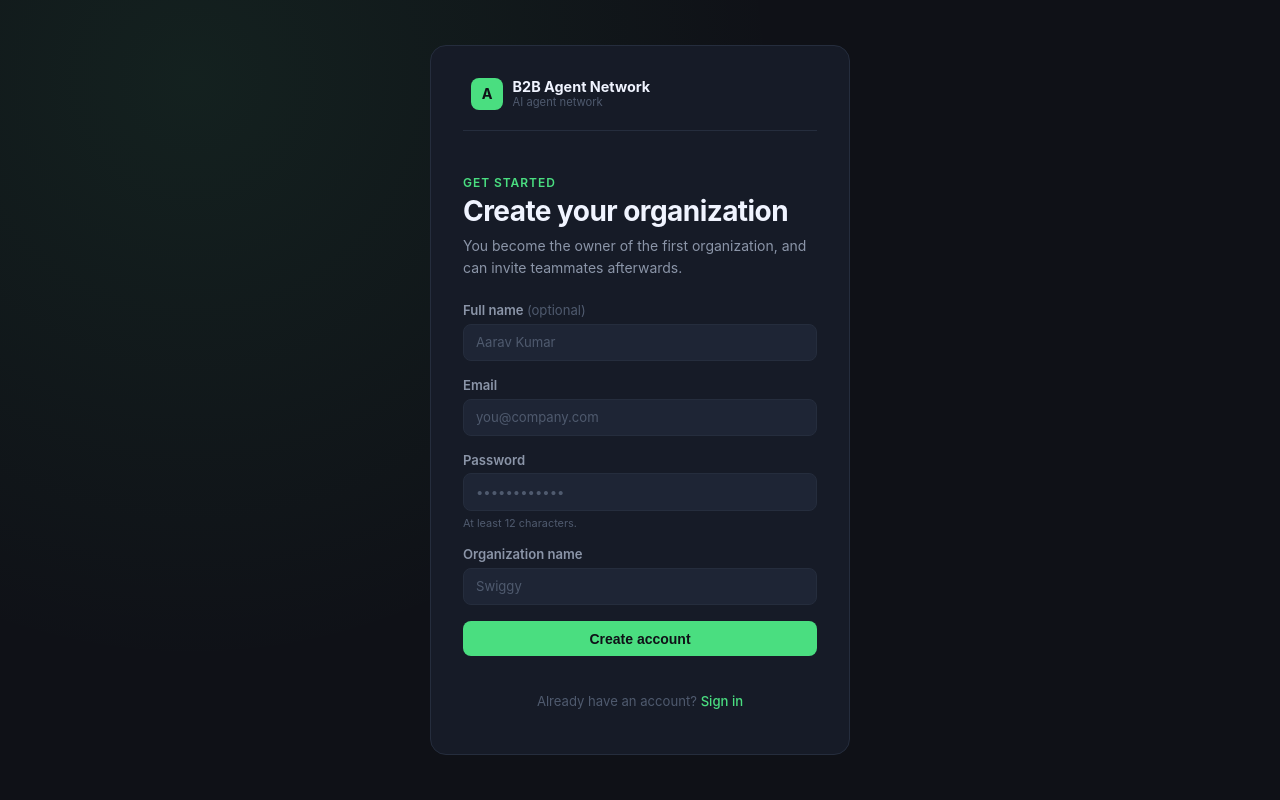
Scenario: authentication flow › registers a new owner and opens the workspace
Type "Ada Owner" into the field labelled "Full name (optional)".
click(640, 342); type("Ada Owner")  # box [463, 324, 817, 361]
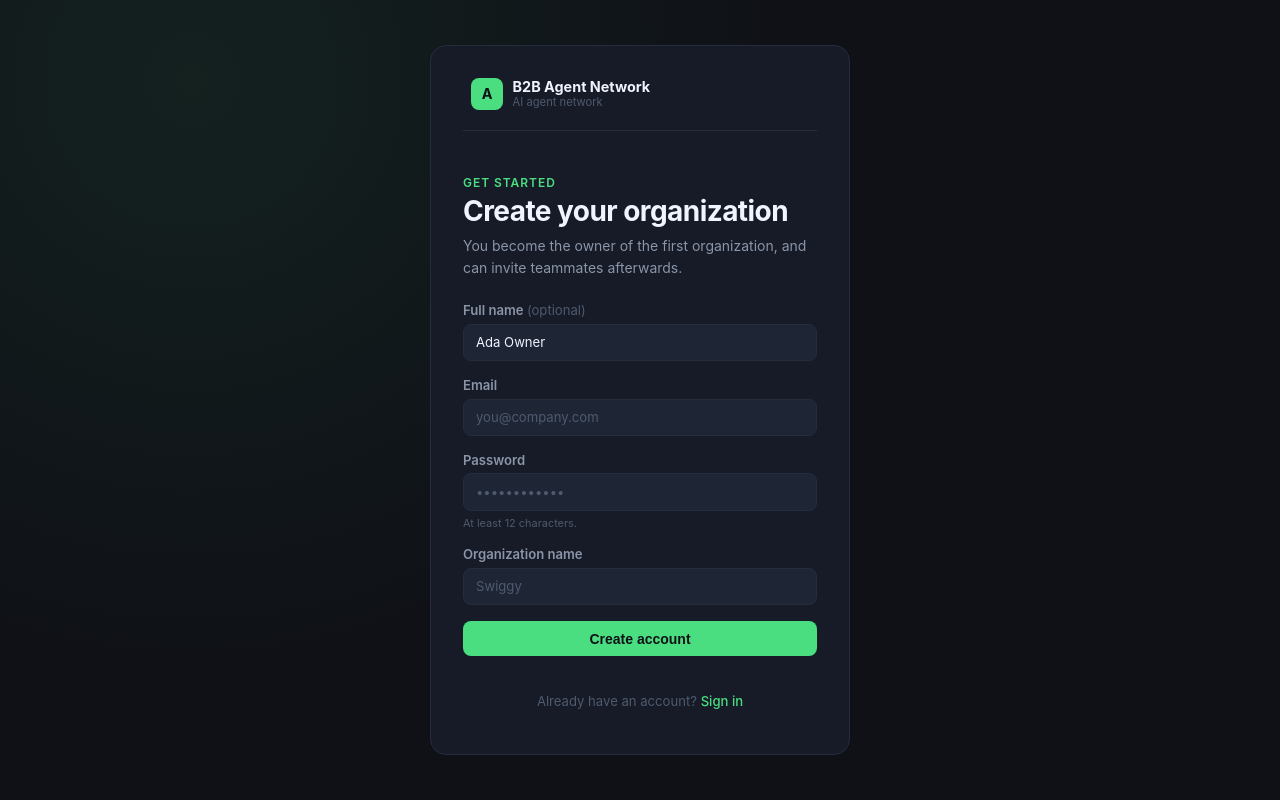
Type "owner@example.test" into the field labelled "Email".
click(640, 417); type("owner@example.test")  # box [463, 399, 817, 436]
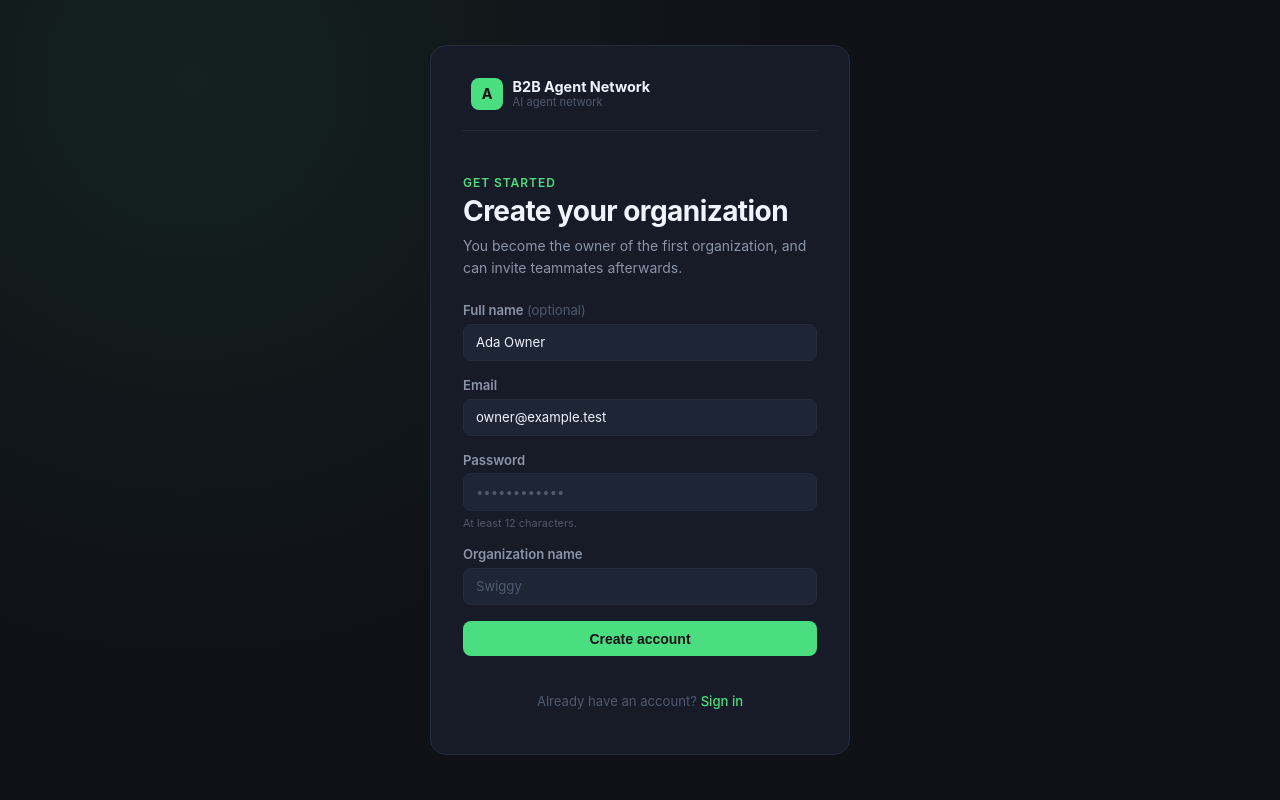
Type "correct horse battery staple" into the password field labelled "Password At least 12 characters.".
click(640, 492); type("correct horse battery staple")  # box [463, 473, 817, 511]
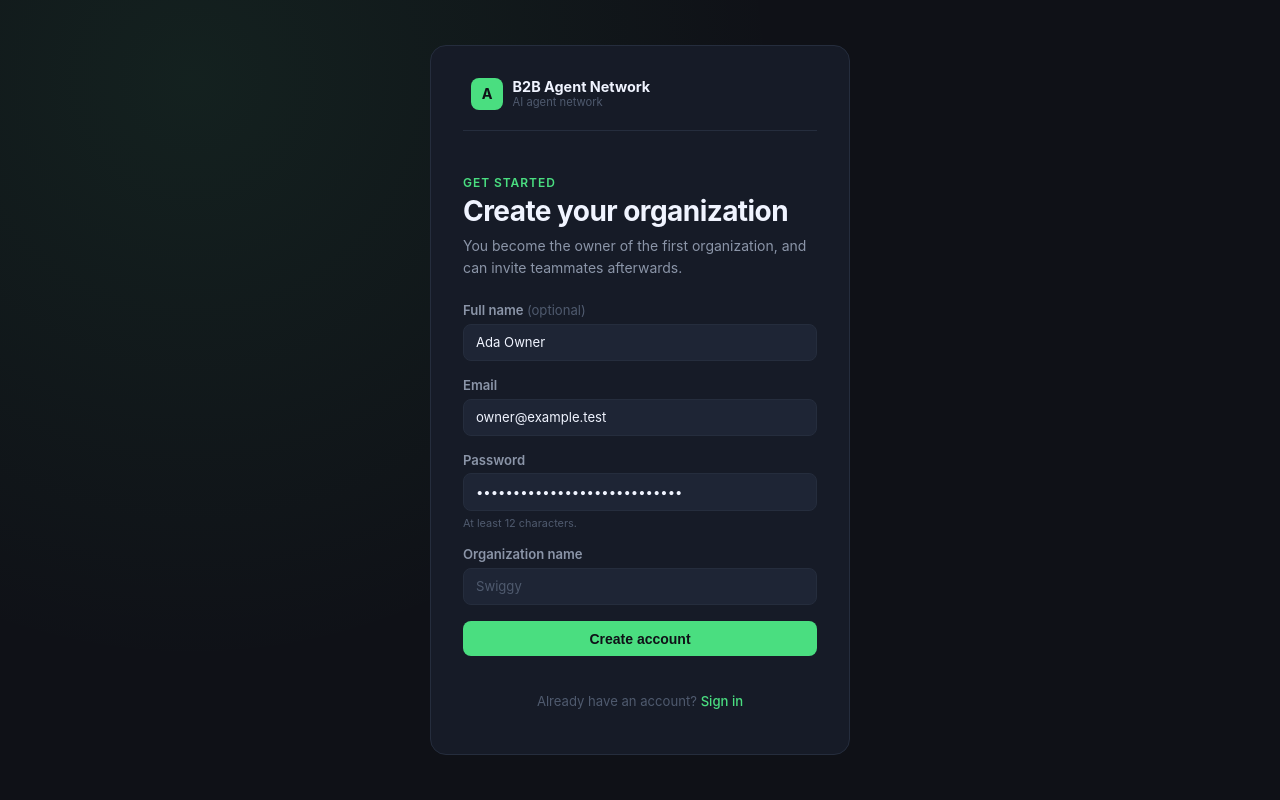
Type "Acme" into the field labelled "Organization name".
click(640, 586); type("Acme")  # box [463, 568, 817, 605]
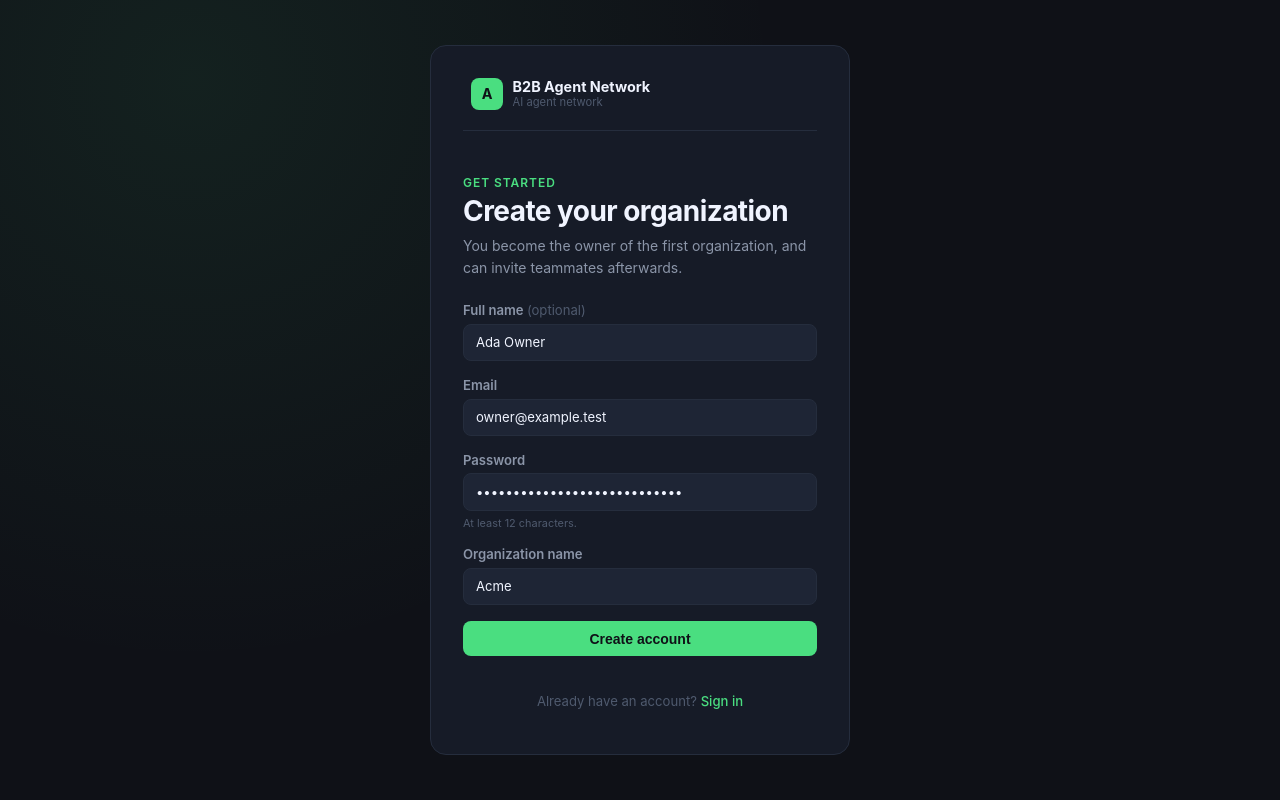
Click the button "Create account".
click(640, 638)  # box [463, 621, 817, 656]
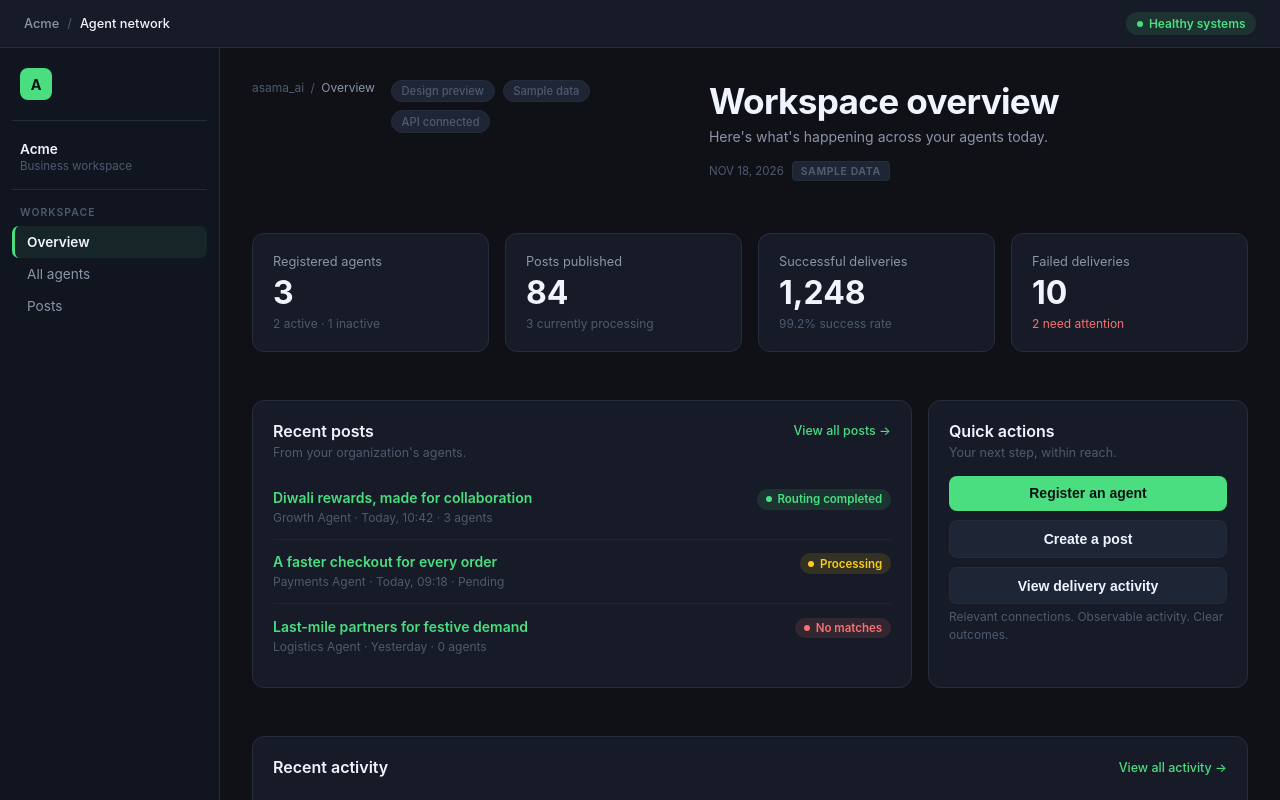
Now the heading "Workspace overview" is shown, box [709, 80, 1059, 122]
